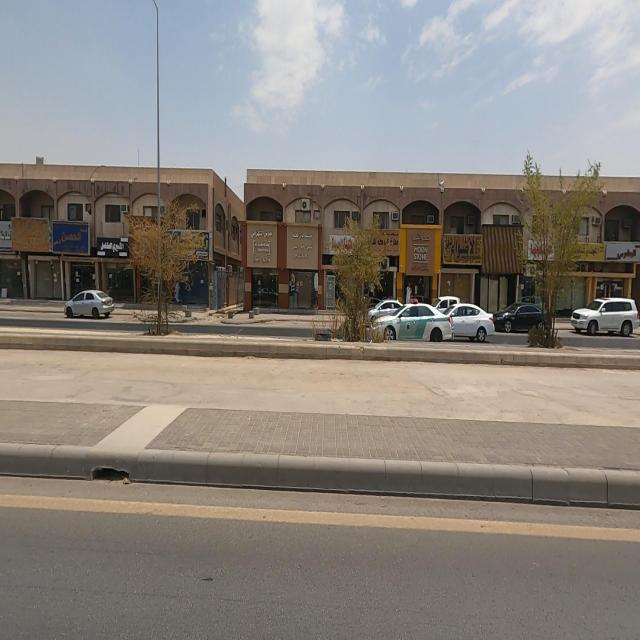debris: (420, 202, 502, 302), (0, 196, 73, 280)
